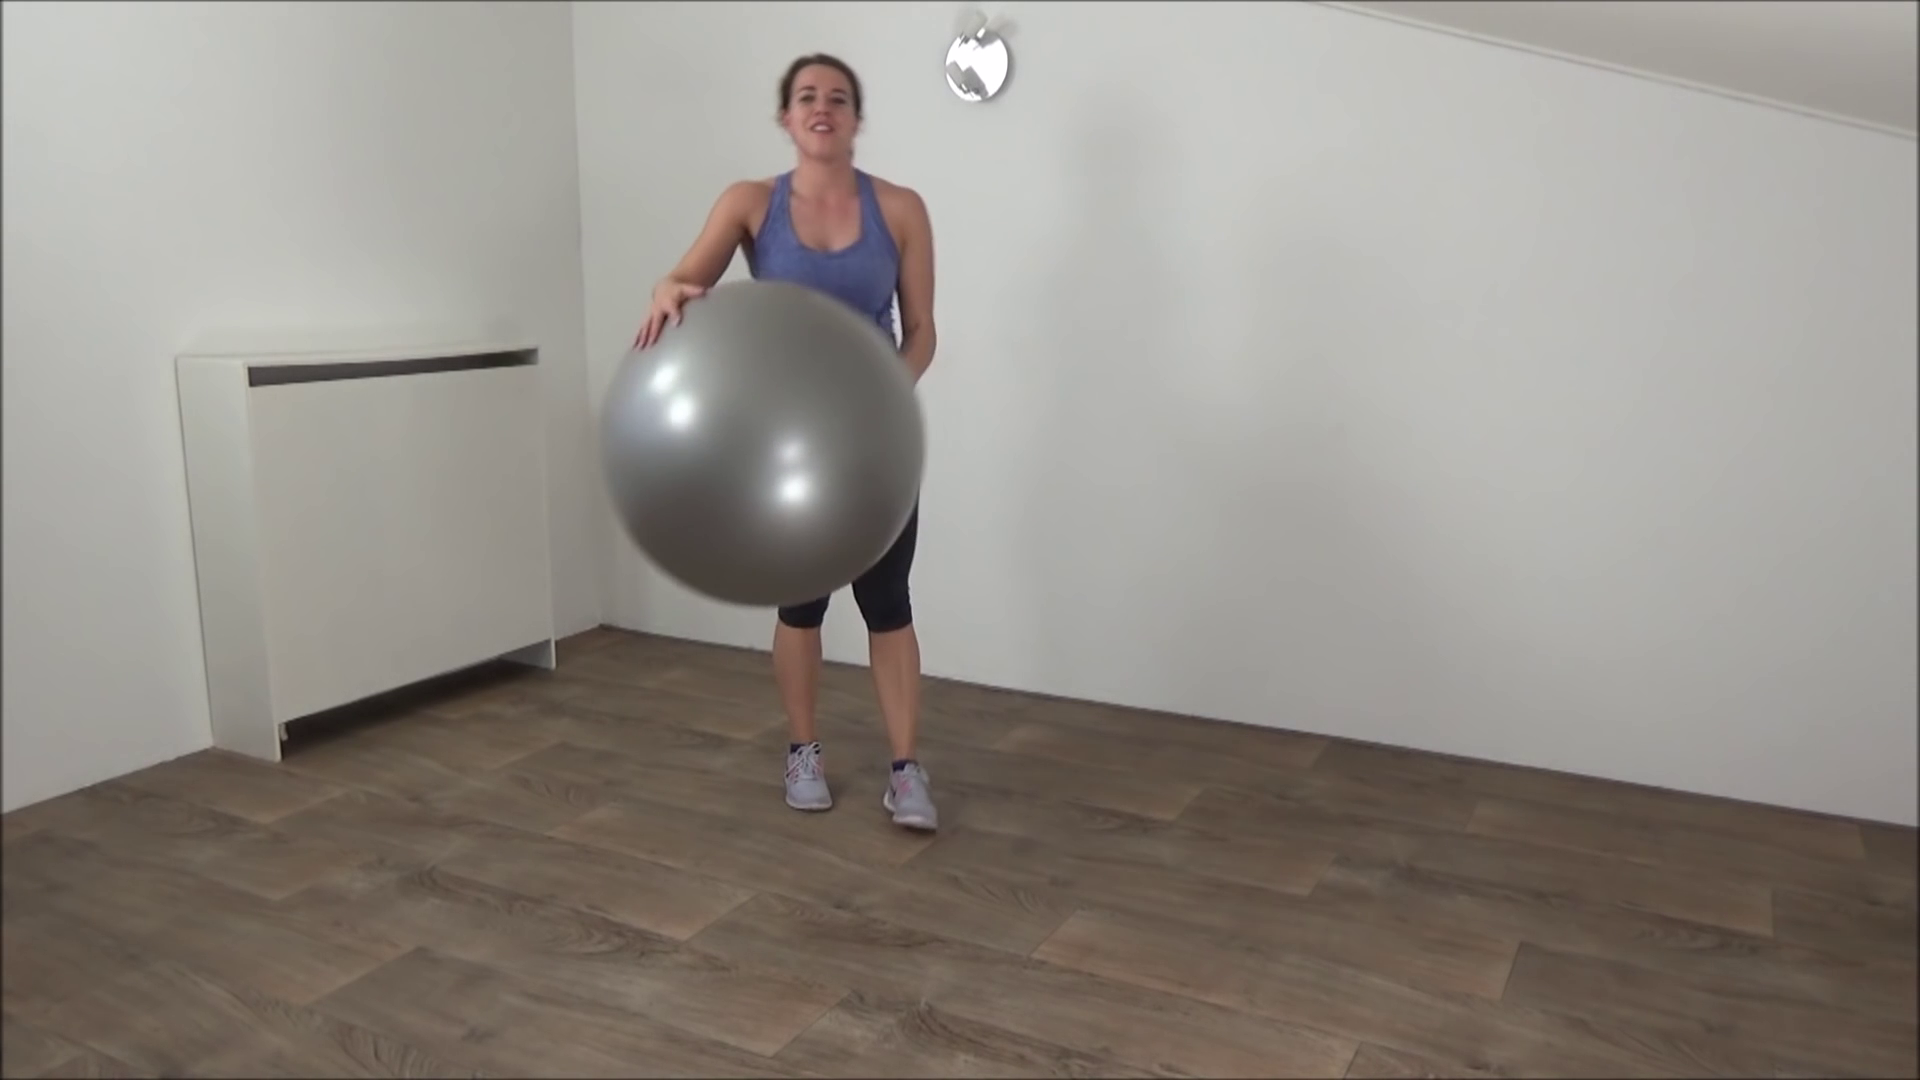yogaball: (589, 276, 953, 622)
